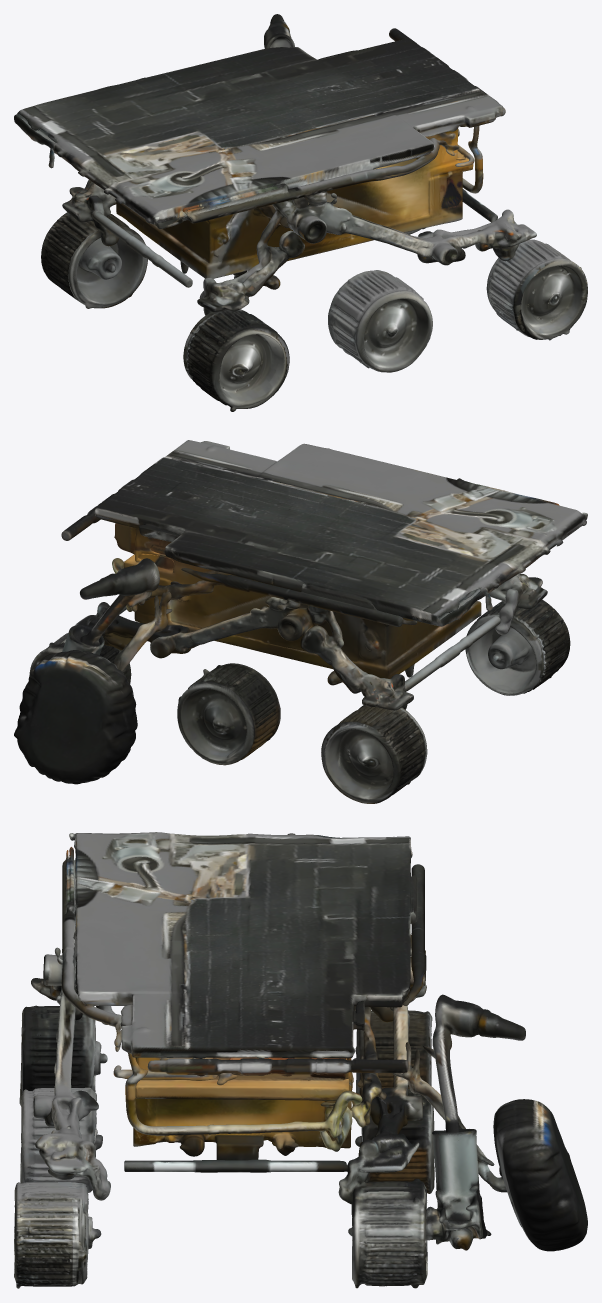
The model's file is space rover 3d model.glb.
3 renders of one model, top to bottom at view 1: azimuth 30°, elevation 25°; view 2: azimuth 150°, elevation 25°; view 3: azimuth 270°, elevation 25°, orthographic. The views are drawn at different scales.
Parts seen in each view (by area): view 1: tripo_node_4b192526-c35a-4be3-af6e-87c469bd0aae; view 2: tripo_node_4b192526-c35a-4be3-af6e-87c469bd0aae; view 3: tripo_node_4b192526-c35a-4be3-af6e-87c469bd0aae.
Boxes of the visible parts, x1,y1,x2,y2 form: tripo_node_4b192526-c35a-4be3-af6e-87c469bd0aae: (14,14,587,411); tripo_node_4b192526-c35a-4be3-af6e-87c469bd0aae: (14,440,587,803); tripo_node_4b192526-c35a-4be3-af6e-87c469bd0aae: (14,832,587,1288).
Size of the model in its own units: 0.9929 by 0.4616 by 1.
Materials: 1 (1 with a texture image).
